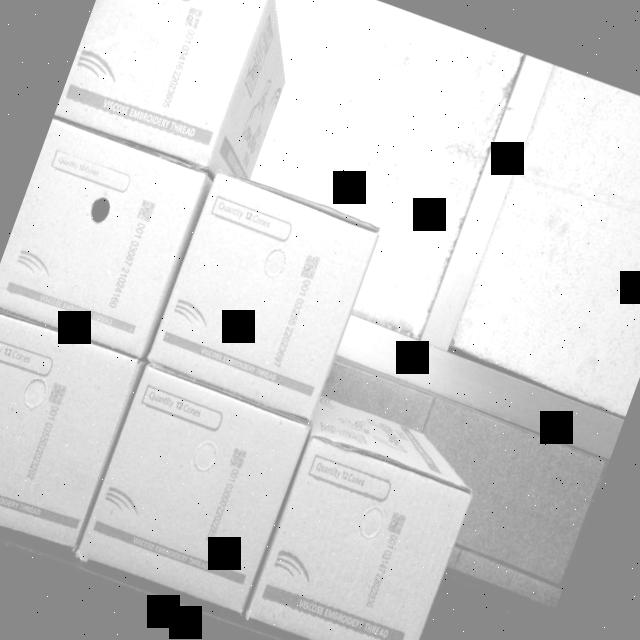box: (78, 360, 315, 616), (149, 170, 381, 422), (0, 117, 207, 354), (249, 429, 476, 640), (55, 0, 275, 168), (0, 305, 142, 564)
